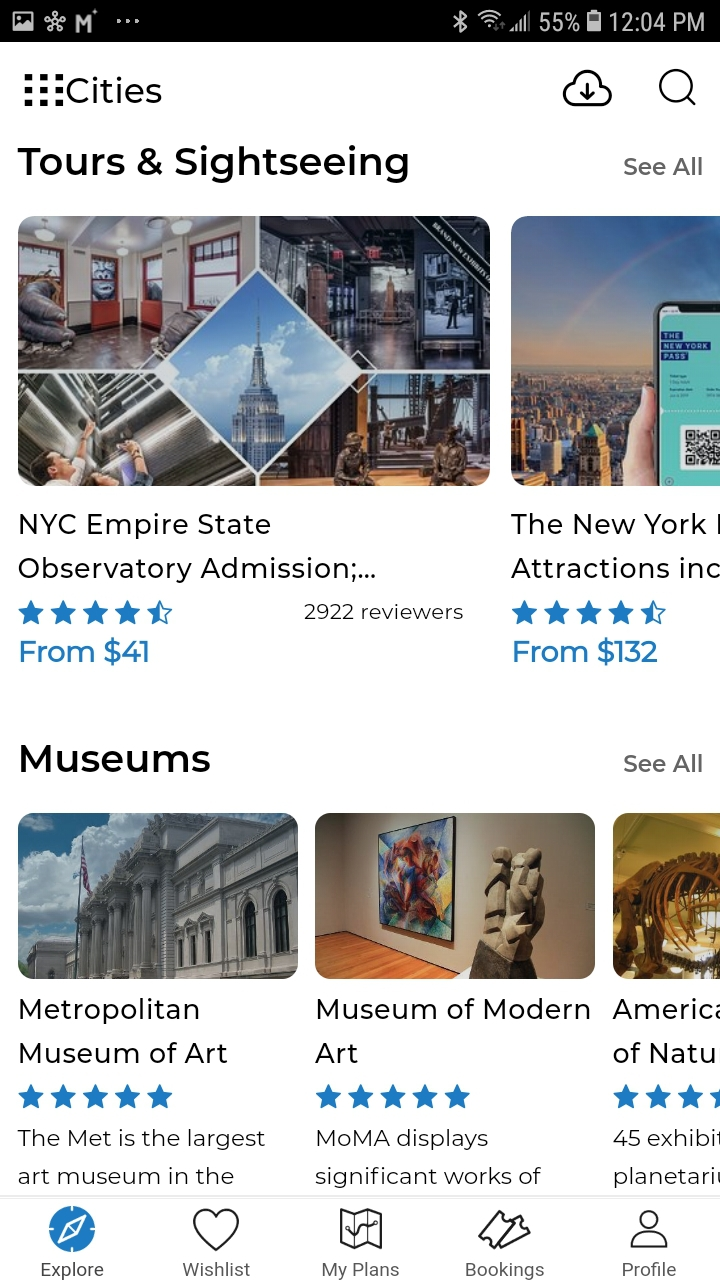Icon: (18, 1083, 173, 1109), (18, 599, 173, 625), (316, 1084, 471, 1109), (511, 600, 666, 625), (613, 1083, 720, 1109), (49, 1205, 96, 1253), (478, 1209, 531, 1250), (193, 1208, 240, 1251), (562, 70, 612, 108), (340, 1207, 383, 1249), (630, 1209, 668, 1248), (658, 69, 696, 107), (26, 75, 65, 108)
Image: (19, 216, 491, 487), (511, 216, 720, 487), (315, 813, 596, 979), (18, 813, 299, 979), (612, 813, 720, 979)
Text: (19, 514, 376, 584), (315, 997, 590, 1064), (18, 145, 409, 184), (511, 513, 720, 580), (17, 1129, 266, 1185), (21, 997, 229, 1064), (316, 1129, 542, 1189), (612, 997, 720, 1064), (613, 1128, 720, 1189), (21, 744, 211, 773), (514, 637, 658, 667), (21, 637, 148, 665), (305, 603, 464, 620), (67, 77, 162, 105), (624, 157, 703, 176), (466, 1261, 545, 1280), (323, 1261, 400, 1280), (624, 755, 702, 773), (43, 1262, 105, 1280), (183, 1261, 251, 1277), (622, 1261, 676, 1277)
UpperTaskBar: (1, 1, 720, 43)
